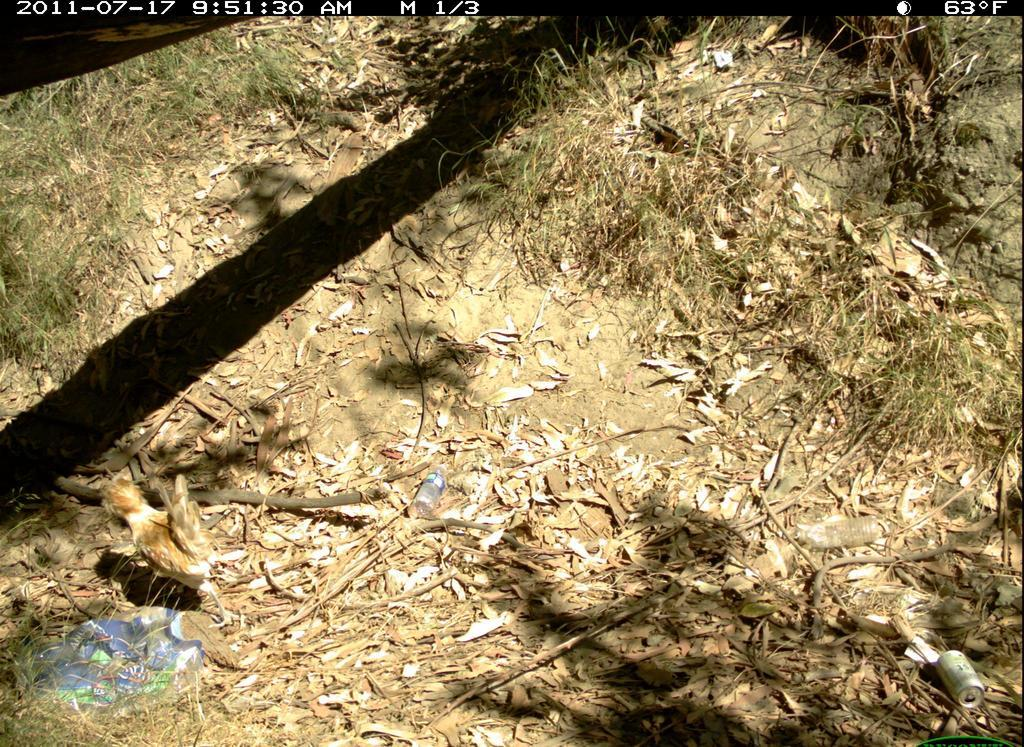bird: (97, 474, 253, 637)
